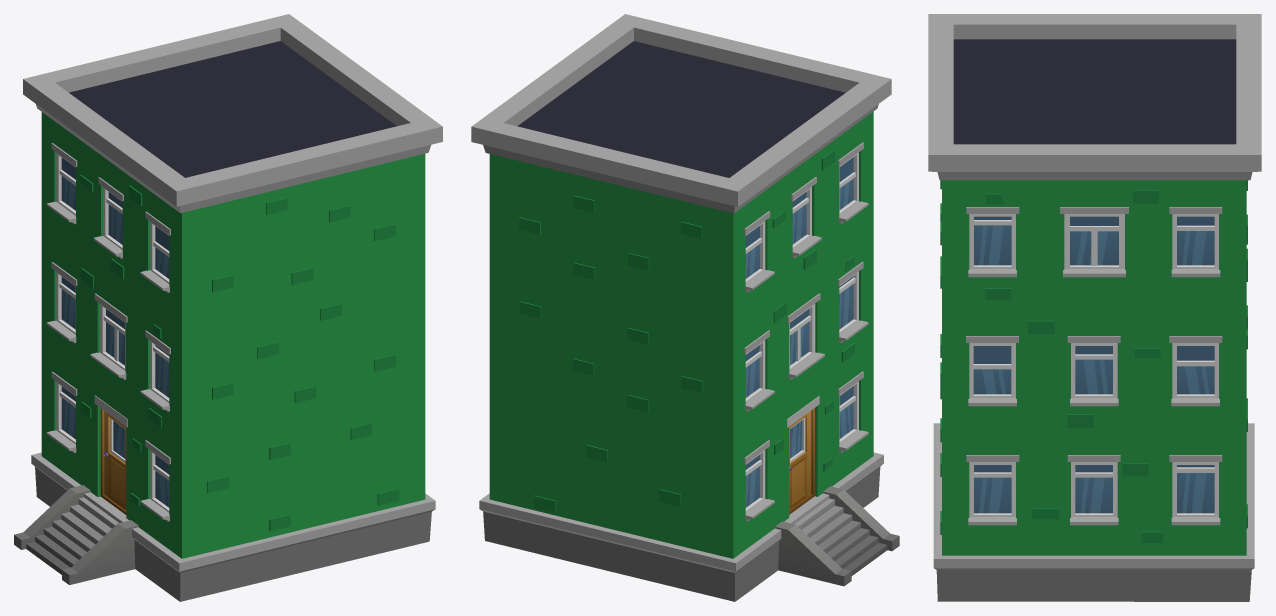
The model's file is Building_2_4_F.fbx.
3 views of the same model, side by side, from view 1: azimuth 30°, elevation 25°; view 2: azimuth 150°, elevation 25°; view 3: azimuth 270°, elevation 25° (orthographic). The views are drawn at different scales.
Parts seen in each view (by area): view 1: Building_2_4_F; view 2: Building_2_4_F; view 3: Building_2_4_F.
Part boxes in pixels (<box>): Building_2_4_F: <box>14,14,442,601</box>; Building_2_4_F: <box>471,14,899,601</box>; Building_2_4_F: <box>928,14,1261,601</box>.
Bounding box in the file's own units: 754 × 926 × 620.
